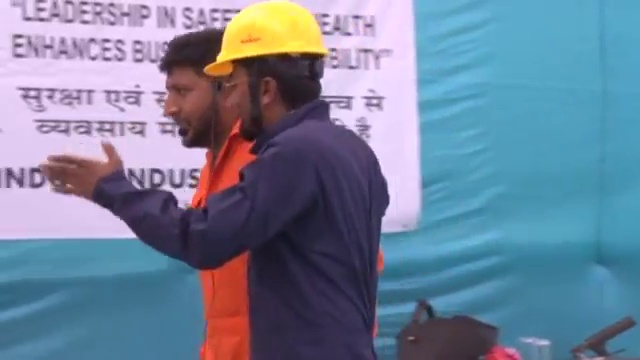helmet: (202, 1, 328, 78)
helmet_off: (160, 28, 236, 147)
helmet_on: (202, 3, 341, 142)
person: (39, 5, 377, 360), (162, 26, 254, 360)
